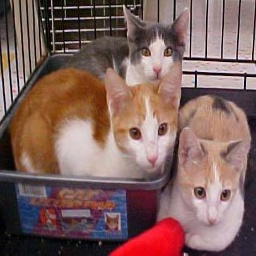cat: (3, 11, 248, 253)
